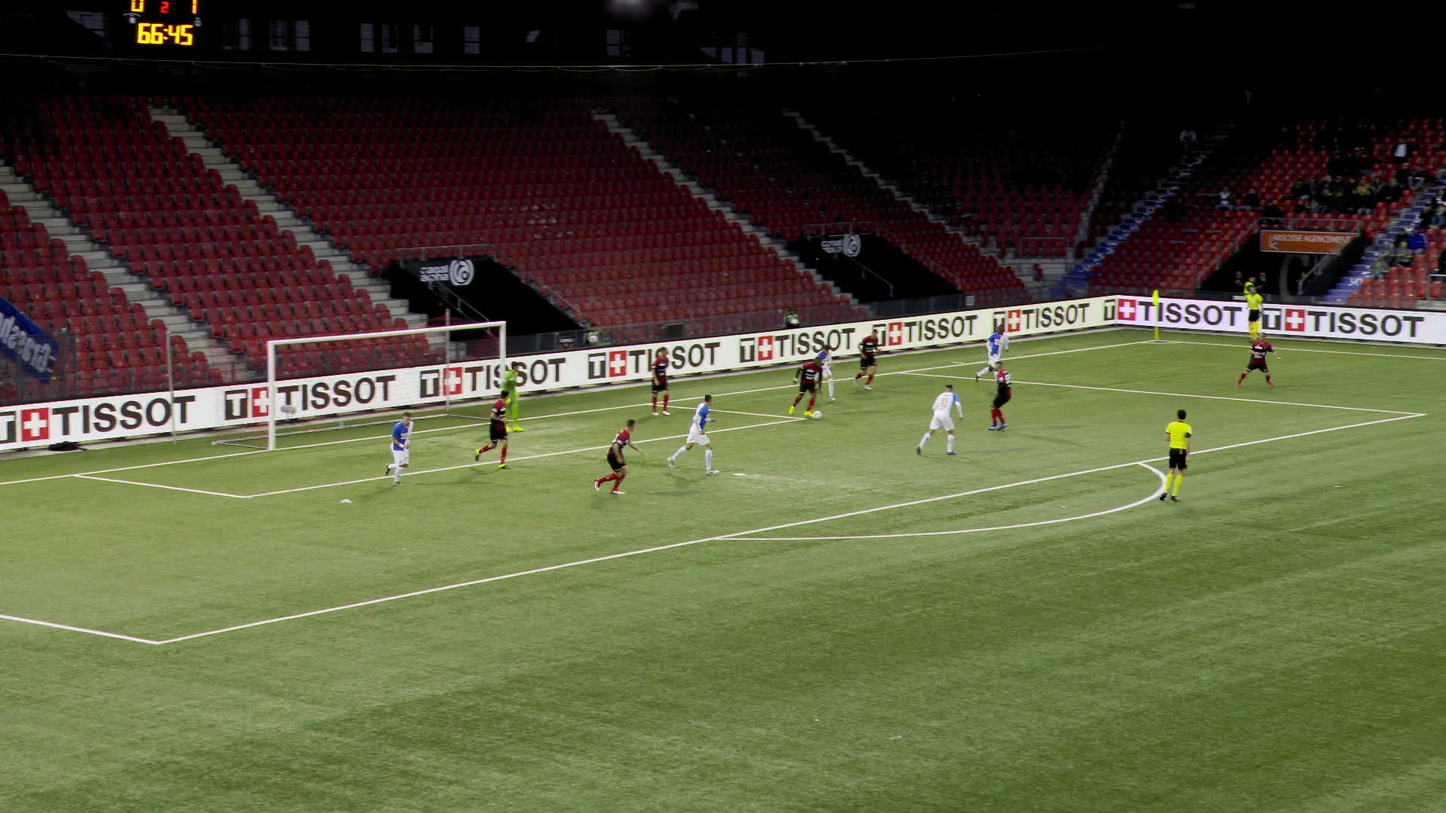ball: (816, 410, 824, 419)
player: (600, 419, 647, 493), (673, 397, 715, 474), (923, 384, 963, 455), (481, 391, 514, 467), (383, 410, 414, 486), (1240, 331, 1278, 387), (795, 356, 825, 416), (980, 326, 1008, 388), (652, 347, 676, 416), (857, 328, 883, 390), (992, 361, 1015, 431), (505, 361, 526, 431), (814, 345, 837, 401)
referee: (1158, 410, 1194, 502), (1246, 287, 1266, 343)
